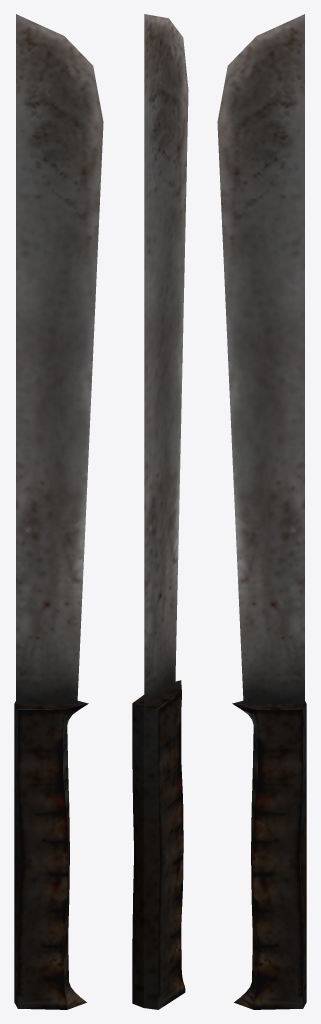
The model's file is Machete_Generic.fbx.
3 views of the same model, side by side, from view 1: azimuth 90°, elevation 25°; view 2: azimuth 150°, elevation 25°; view 3: azimuth 270°, elevation 25° (orthographic).
Parts seen in each view (by area): view 1: Cylinder; view 2: Cylinder; view 3: Cylinder.
Part boxes in pixels (x1,y1,x2,y2): Cylinder: (14, 14, 103, 1009); Cylinder: (132, 14, 188, 1009); Cylinder: (217, 14, 306, 1009).
Bounding box in the file's own units: 11.86 × 368 × 30.02.
